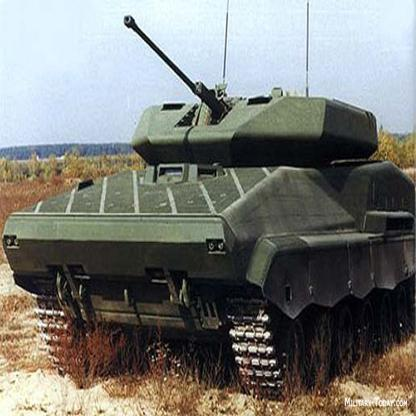Tank: (6, 15, 416, 394)
